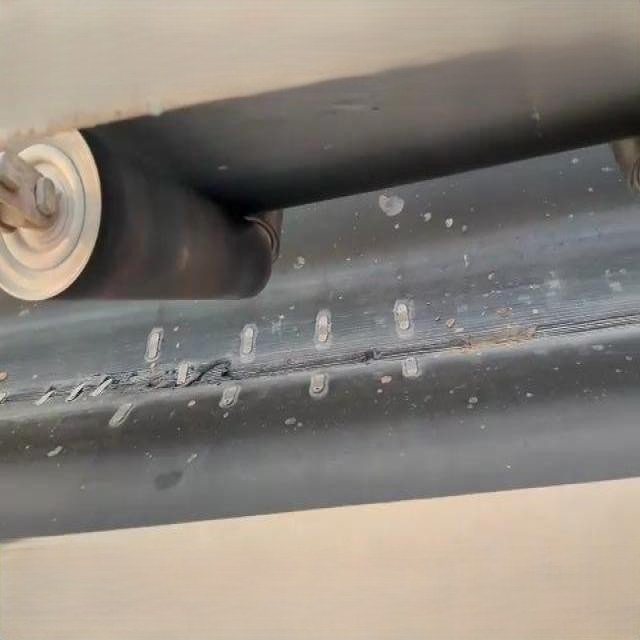Tear: (147, 360, 245, 391)
Wear: (0, 314, 635, 411)
